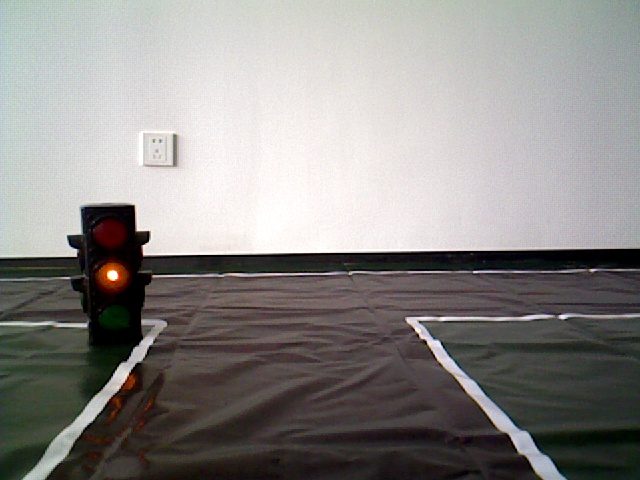yellow: (80, 202, 144, 336)
